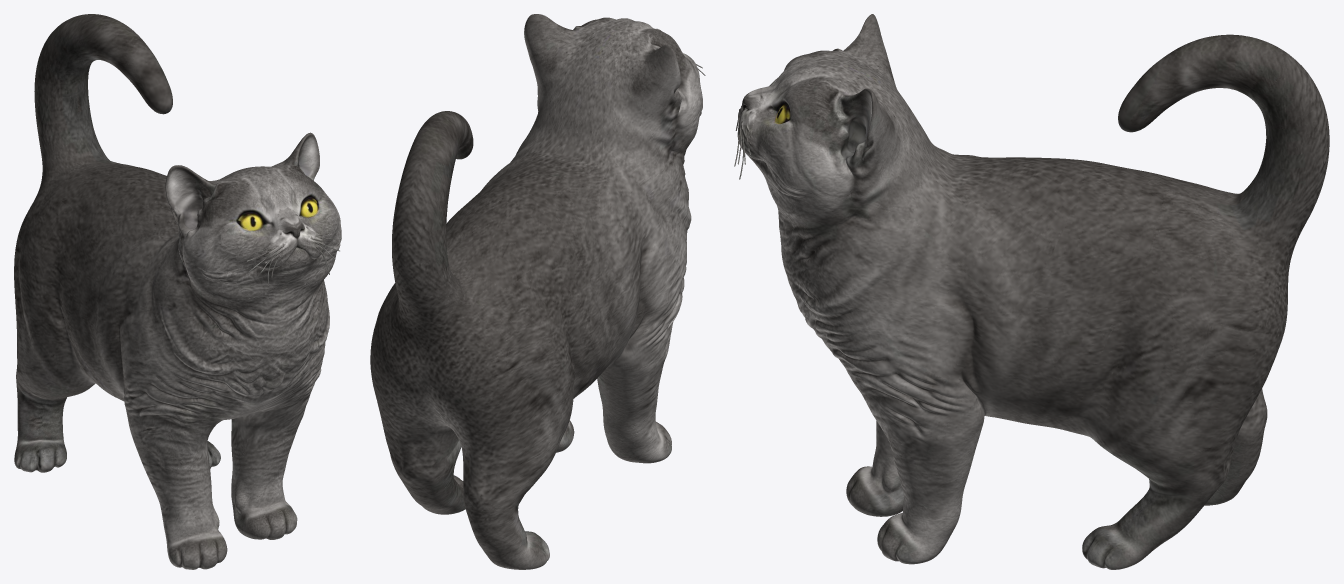
The model's file is jiji.glb.
The picture shows the model from 3 angles, left to right: view 1: azimuth 30°, elevation 25°; view 2: azimuth 150°, elevation 25°; view 3: azimuth 270°, elevation 25°; orthographic projection. The views are drawn at different scales.
Bounding box in the file's own units: 0.7871 × 1.76 × 1.9.
Materials: 1 (1 with a texture image).
